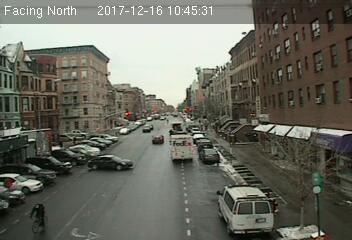bicycle: (28, 202, 50, 233)
car: (200, 148, 220, 162), (151, 133, 164, 144)
police: (214, 182, 274, 236)
truck: (169, 134, 193, 163)
